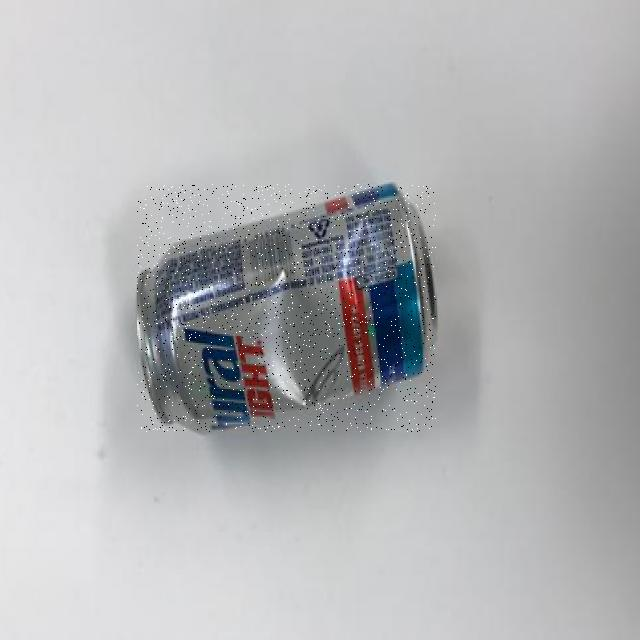metal: (138, 184, 436, 432)
